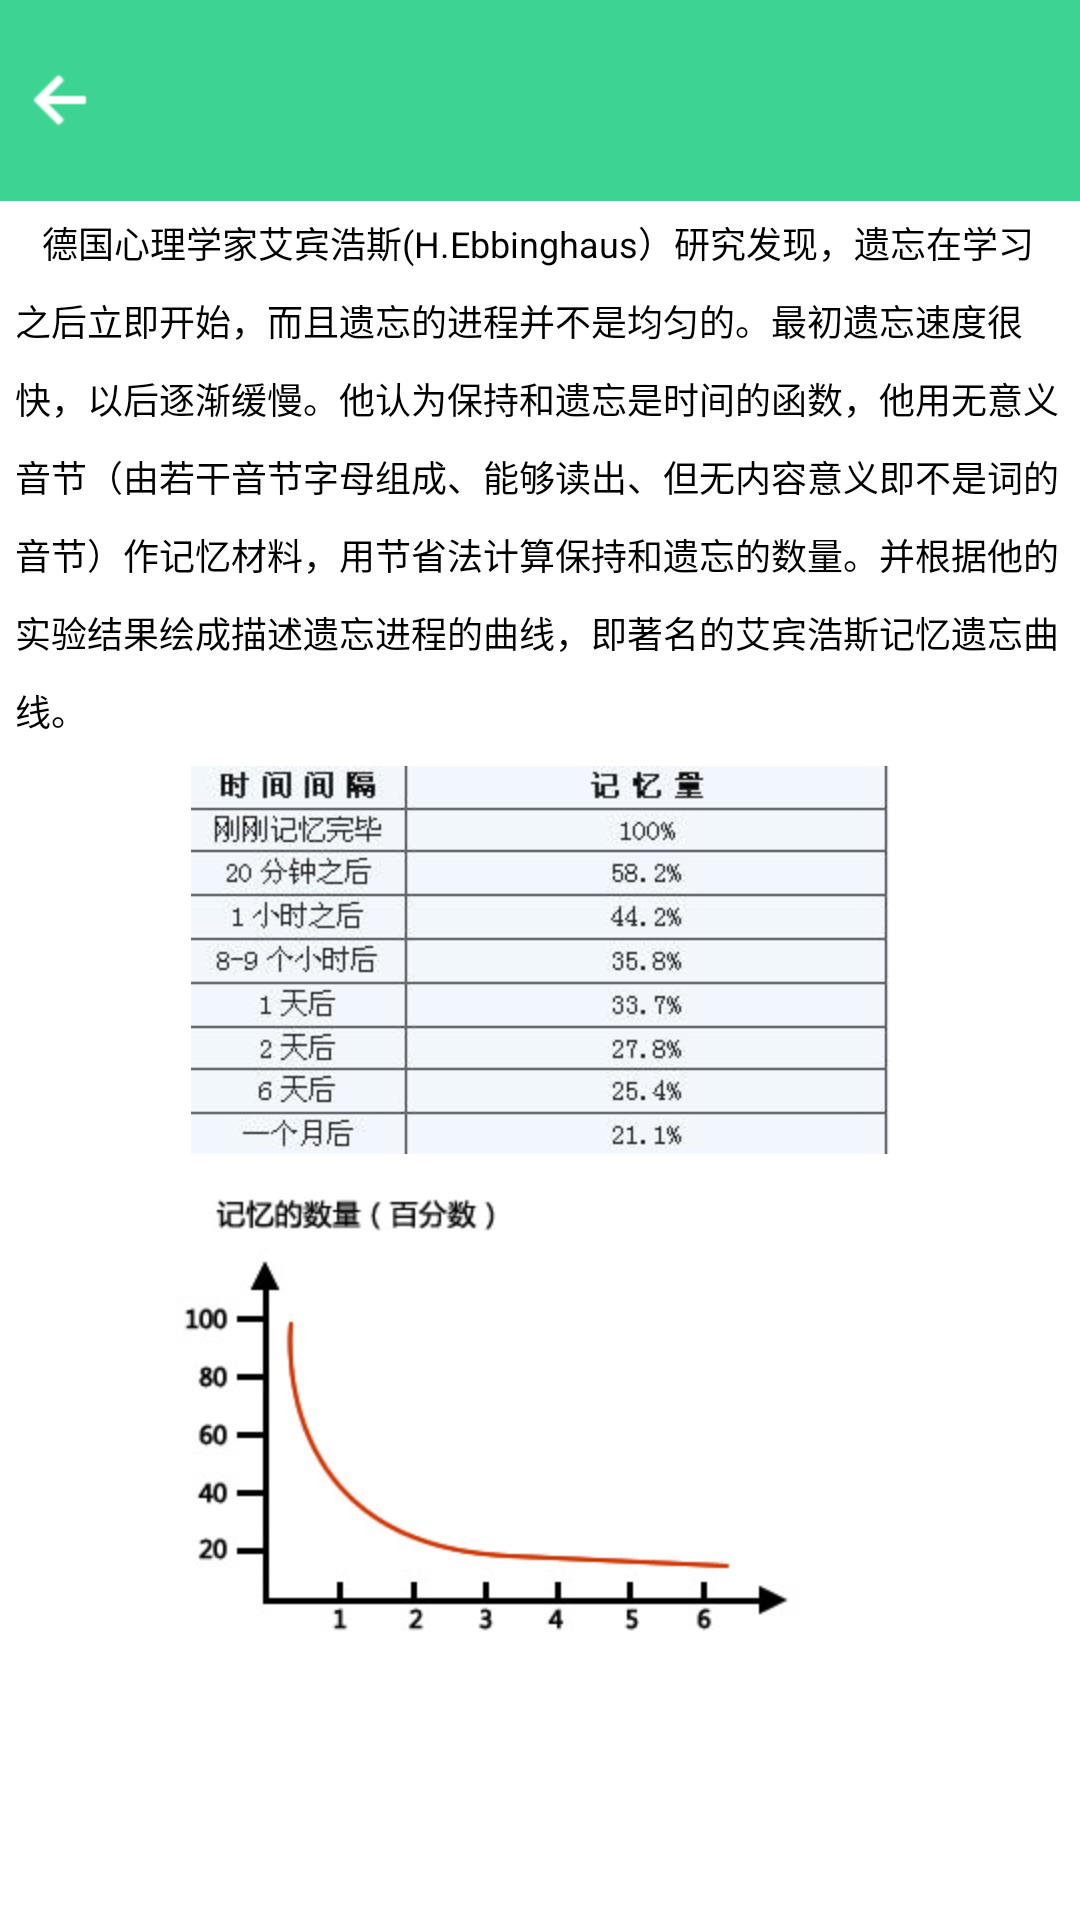

Icon bounding boxes for this 1080px x 1920px phone screenshot, format (x1, y1, x2, y2):
page main back: (33, 74, 87, 126)
